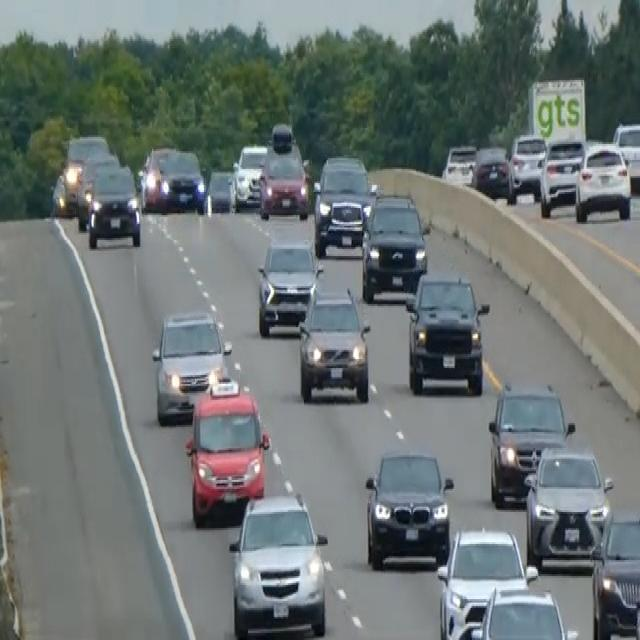car: (228, 491, 328, 638), (184, 370, 270, 524), (523, 441, 613, 571), (436, 524, 538, 638), (487, 378, 574, 506), (363, 448, 454, 569), (151, 307, 232, 425), (297, 284, 371, 404), (360, 190, 428, 302), (256, 235, 321, 336), (312, 153, 375, 256), (468, 580, 579, 638), (590, 507, 639, 638), (574, 139, 632, 222), (86, 163, 141, 249), (539, 133, 585, 217), (61, 132, 108, 214), (75, 148, 120, 230), (161, 148, 205, 212), (471, 142, 514, 203), (508, 130, 547, 197), (231, 142, 267, 210), (139, 144, 175, 212), (612, 119, 639, 190), (441, 142, 476, 187), (204, 167, 233, 213), (0, 439, 9, 581), (50, 171, 71, 217)
jeep: (404, 268, 490, 396)
